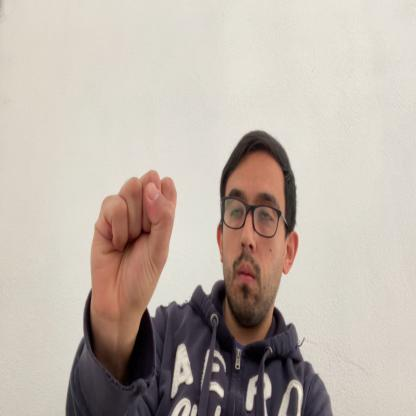S: (90, 170, 177, 322)
